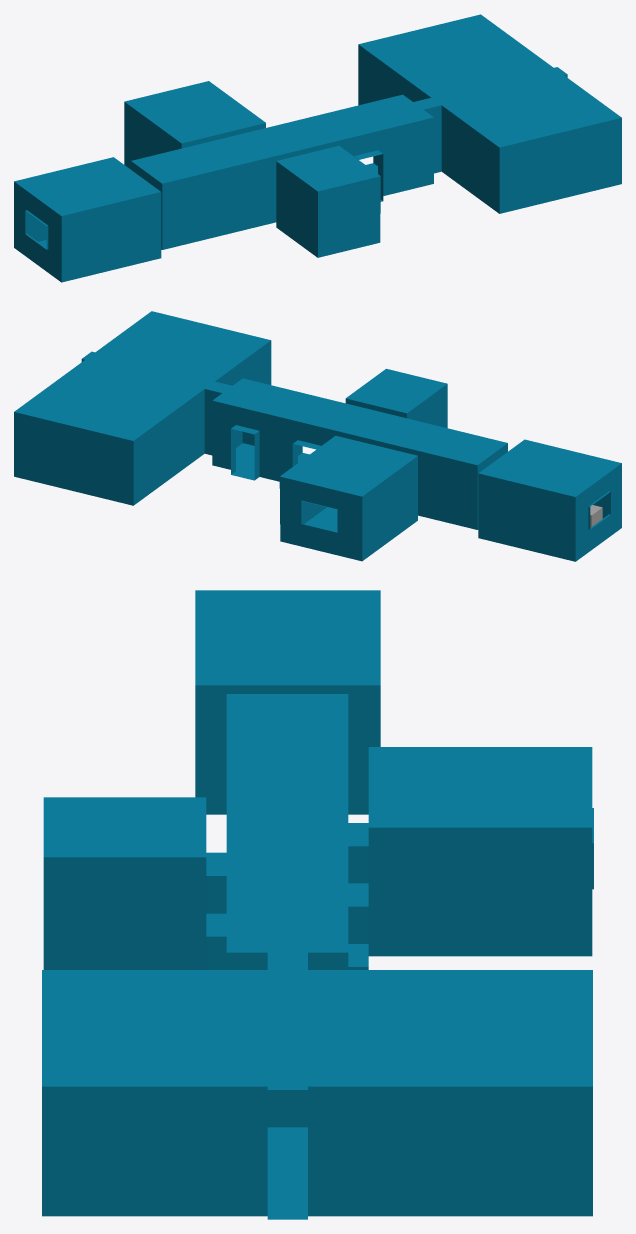
The model's file is Room_w_TestObjects.fbx.
3 renders of one model, top to bottom at view 1: azimuth 30°, elevation 25°; view 2: azimuth 150°, elevation 25°; view 3: azimuth 270°, elevation 25°, orthographic. The views are drawn at different scales.
Parts seen in each view (by area): view 1: pPlane1; view 2: pPlane1; view 3: pPlane1.
Boxes of the visible parts, x1,y1,x2,y2 form: pPlane1: (14,14,621,282); pPlane1: (14,311,621,561); pPlane1: (42,590,593,1219).
Size of the model in its own units: 11608 by 1398 by 5398.
